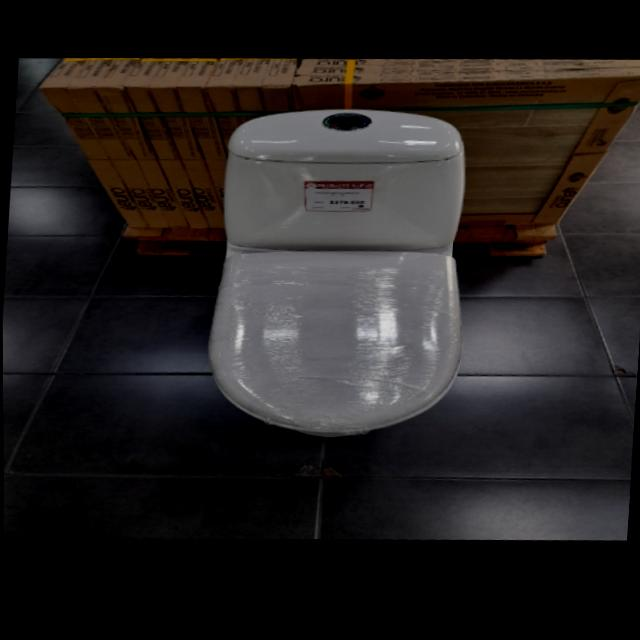toilet: (199, 97, 478, 457)
